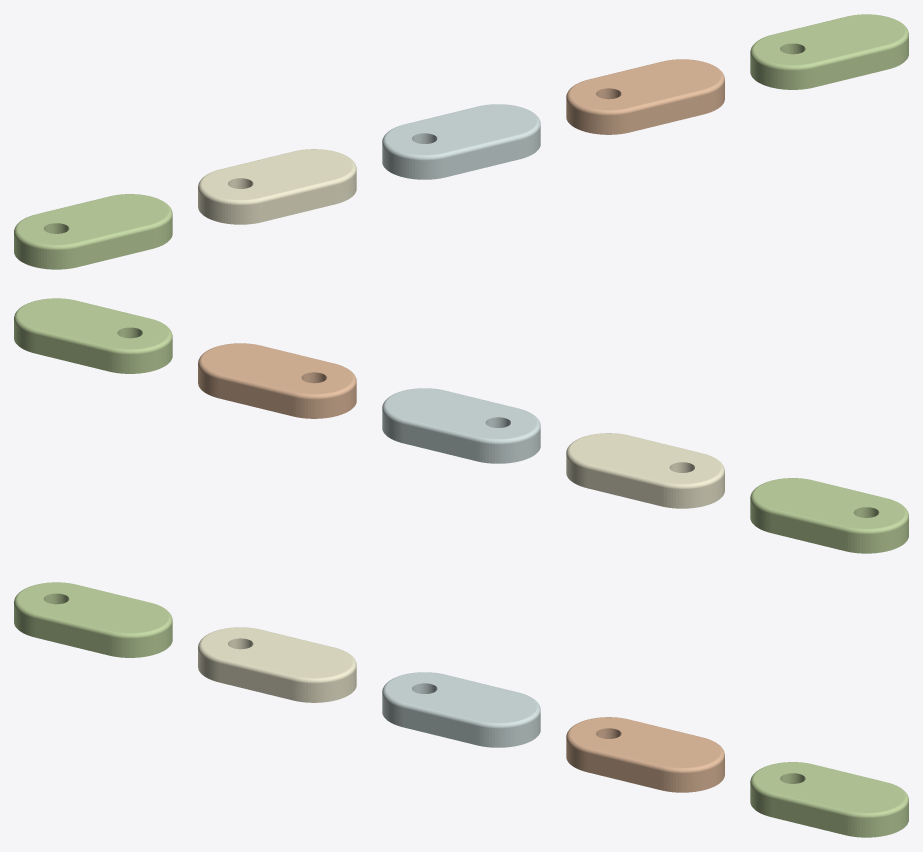
The model's file is five-tabs.glb.
3 renders of one model, top to bottom at view 1: azimuth 30°, elevation 25°; view 2: azimuth 150°, elevation 25°; view 3: azimuth 330°, elevation 25°, orthographic.
Parts seen in each view (by area): view 1: Capsule Pull Tab / tab-2, Capsule Pull Tab / tab-4, Capsule Pull Tab / tab-1, Capsule Pull Tab / tab-5, Capsule Pull Tab / tab-3; view 2: Capsule Pull Tab / tab-2, Capsule Pull Tab / tab-4, Capsule Pull Tab / tab-1, Capsule Pull Tab / tab-5, Capsule Pull Tab / tab-3; view 3: Capsule Pull Tab / tab-2, Capsule Pull Tab / tab-4, Capsule Pull Tab / tab-5, Capsule Pull Tab / tab-1, Capsule Pull Tab / tab-3.
Part boxes in pixels (x1,y1,x2,y2): Capsule Pull Tab / tab-2: (198, 149, 356, 224); Capsule Pull Tab / tab-4: (566, 59, 724, 134); Capsule Pull Tab / tab-1: (14, 194, 172, 269); Capsule Pull Tab / tab-5: (750, 14, 908, 89); Capsule Pull Tab / tab-3: (382, 104, 540, 179); Capsule Pull Tab / tab-2: (566, 433, 724, 508); Capsule Pull Tab / tab-4: (198, 343, 356, 418); Capsule Pull Tab / tab-1: (750, 478, 908, 553); Capsule Pull Tab / tab-5: (14, 298, 172, 373); Capsule Pull Tab / tab-3: (382, 388, 540, 463); Capsule Pull Tab / tab-2: (198, 627, 356, 702); Capsule Pull Tab / tab-4: (566, 717, 724, 792); Capsule Pull Tab / tab-5: (750, 762, 908, 837); Capsule Pull Tab / tab-1: (14, 582, 172, 657); Capsule Pull Tab / tab-3: (382, 672, 540, 747).
Bounding box in the file's own units: 0.24 × 0.006 × 0.02.
